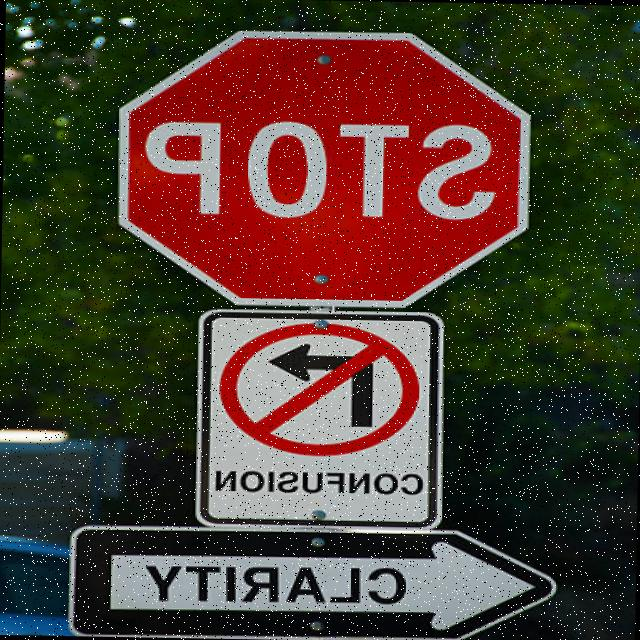stop: (95, 19, 548, 314)
